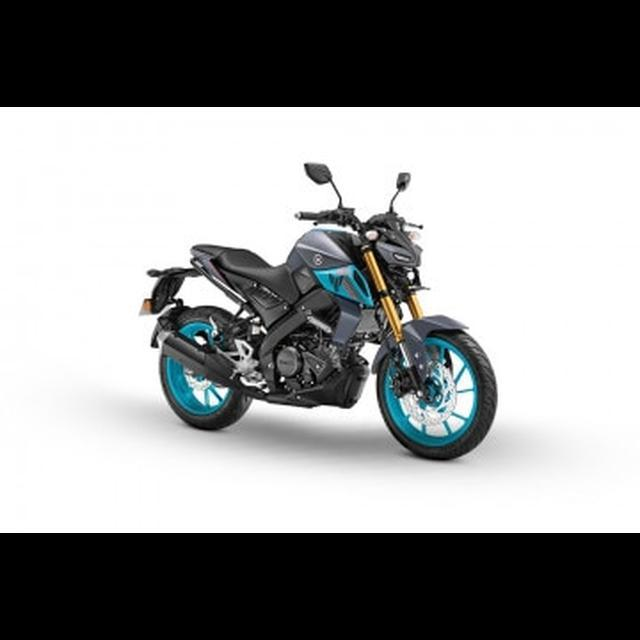motorcycle: (133, 157, 503, 465)
